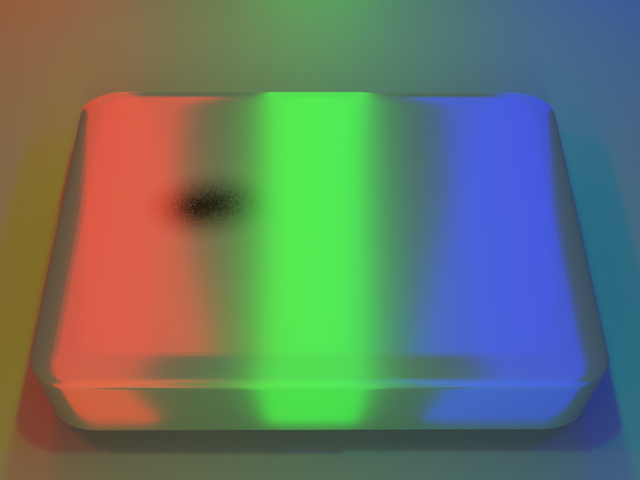stain: (77, 135, 313, 265)
